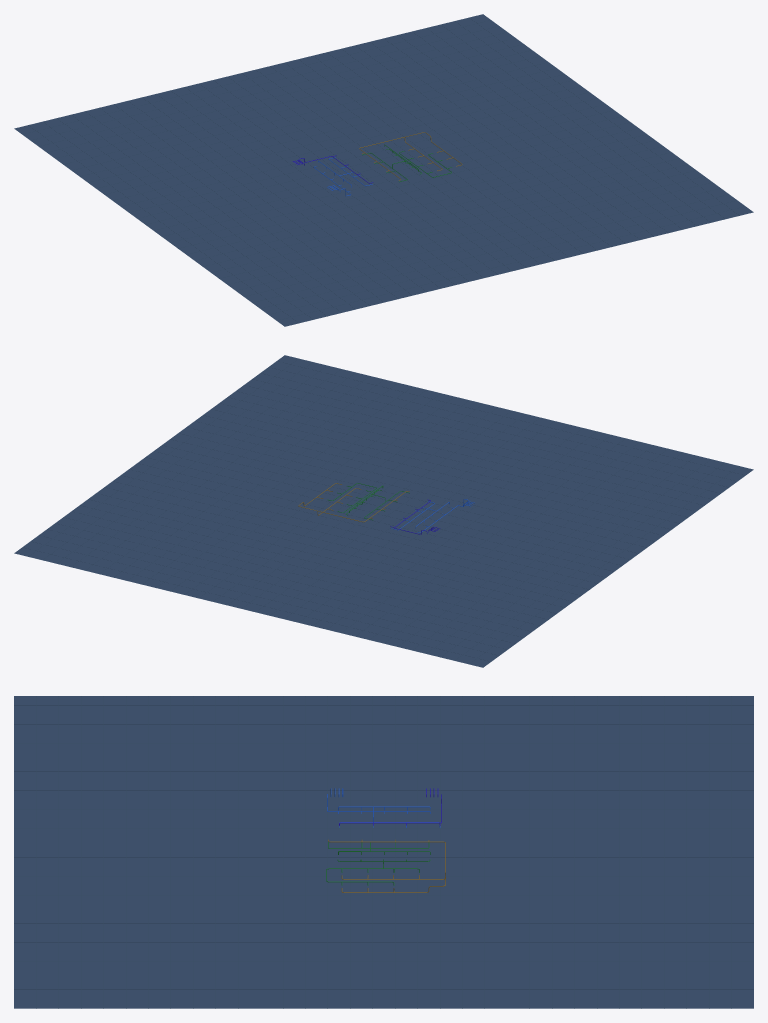
The picture shows the model from 3 angles, top to bottom: view 1: azimuth 30°, elevation 25°; view 2: azimuth 150°, elevation 25°; view 3: azimuth 270°, elevation 25°; orthographic projection. The views are drawn at different scales.
Visible parts, largest first — view 1: 平面, 平面.005; view 2: 平面, 平面.005; view 3: 平面, 平面.005, 平面.010.
Part boxes in pixels (x1,y1,x2,y2): 平面: (14, 14, 753, 326); 平面.005: (31, 18, 737, 321); 平面: (14, 355, 753, 667); 平面.005: (30, 359, 736, 662); 平面: (14, 696, 753, 1008); 平面.005: (14, 696, 753, 1008); 平面.010: (328, 839, 445, 892).
Size of the model in its own units: 2984 by 72.71 by 2984.
